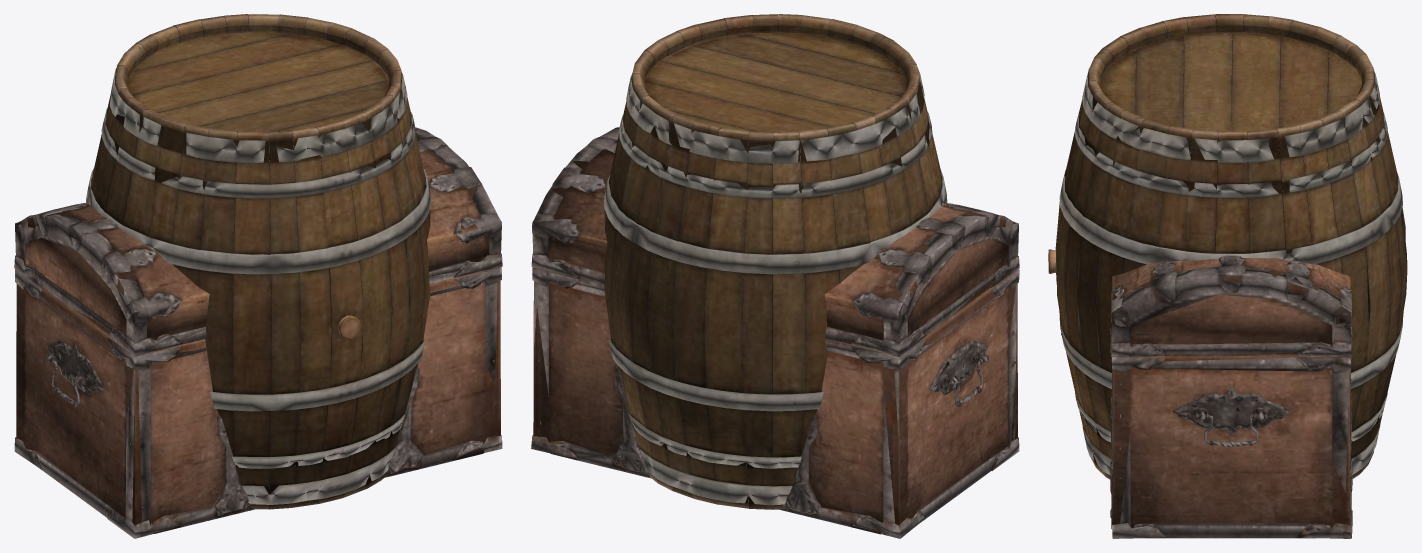
Rendered from hero.glb.
The picture shows the model from 3 angles, left to right: view 1: azimuth 30°, elevation 25°; view 2: azimuth 150°, elevation 25°; view 3: azimuth 270°, elevation 25°; orthographic projection.
Visible parts, largest first — view 1: wine_barrel_01, treasure_chest_bottom, treasure_chest_lid, wine_barrel_01_Lid; view 2: wine_barrel_01, treasure_chest_bottom, treasure_chest_lid, wine_barrel_01_Lid; view 3: wine_barrel_01, treasure_chest_bottom, treasure_chest_lid, wine_barrel_01_Lid, treasure_chest_handle_right.
Part boxes in pixels (x1,y1,x2,y2): wine_barrel_01: (86, 14, 430, 509); treasure_chest_bottom: (14, 267, 502, 538); treasure_chest_lid: (14, 127, 502, 356); wine_barrel_01_Lid: (127, 32, 389, 132); wine_barrel_01: (604, 14, 947, 509); treasure_chest_bottom: (531, 267, 1019, 538); treasure_chest_lid: (531, 127, 1019, 356); wine_barrel_01_Lid: (644, 32, 906, 133); wine_barrel_01: (1055, 14, 1407, 480); treasure_chest_bottom: (1110, 342, 1352, 538); treasure_chest_lid: (1110, 122, 1352, 356); wine_barrel_01_Lid: (1100, 32, 1361, 131); treasure_chest_handle_right: (1192, 413, 1270, 446).
Size of the model in its own units: 0.959 by 0.872 by 0.7561.
4 materials, 4 textured.
